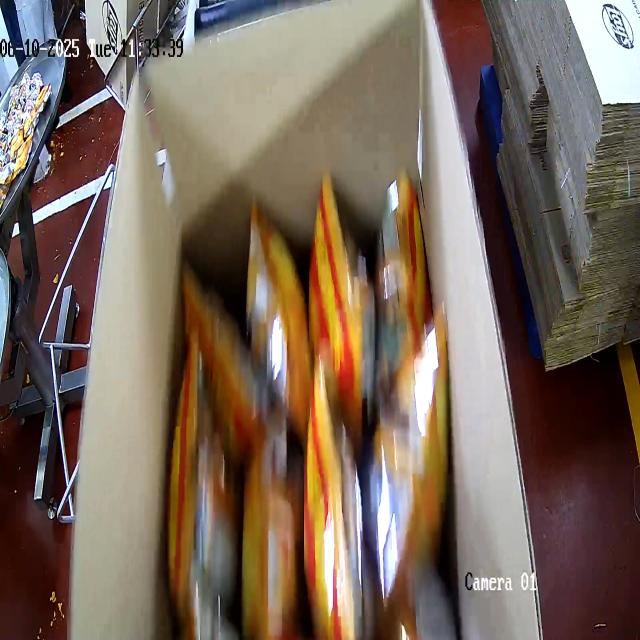FRENCH_CHEESE: (176, 171, 465, 640)
